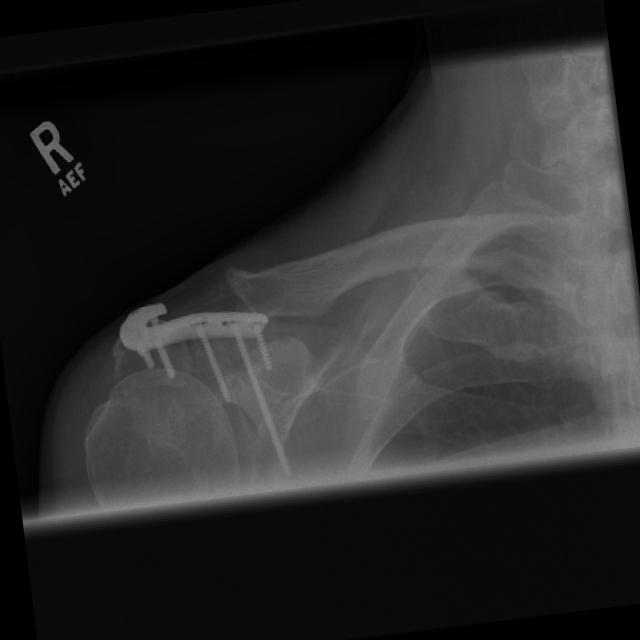shoulder fracture: (153, 306, 234, 386)
